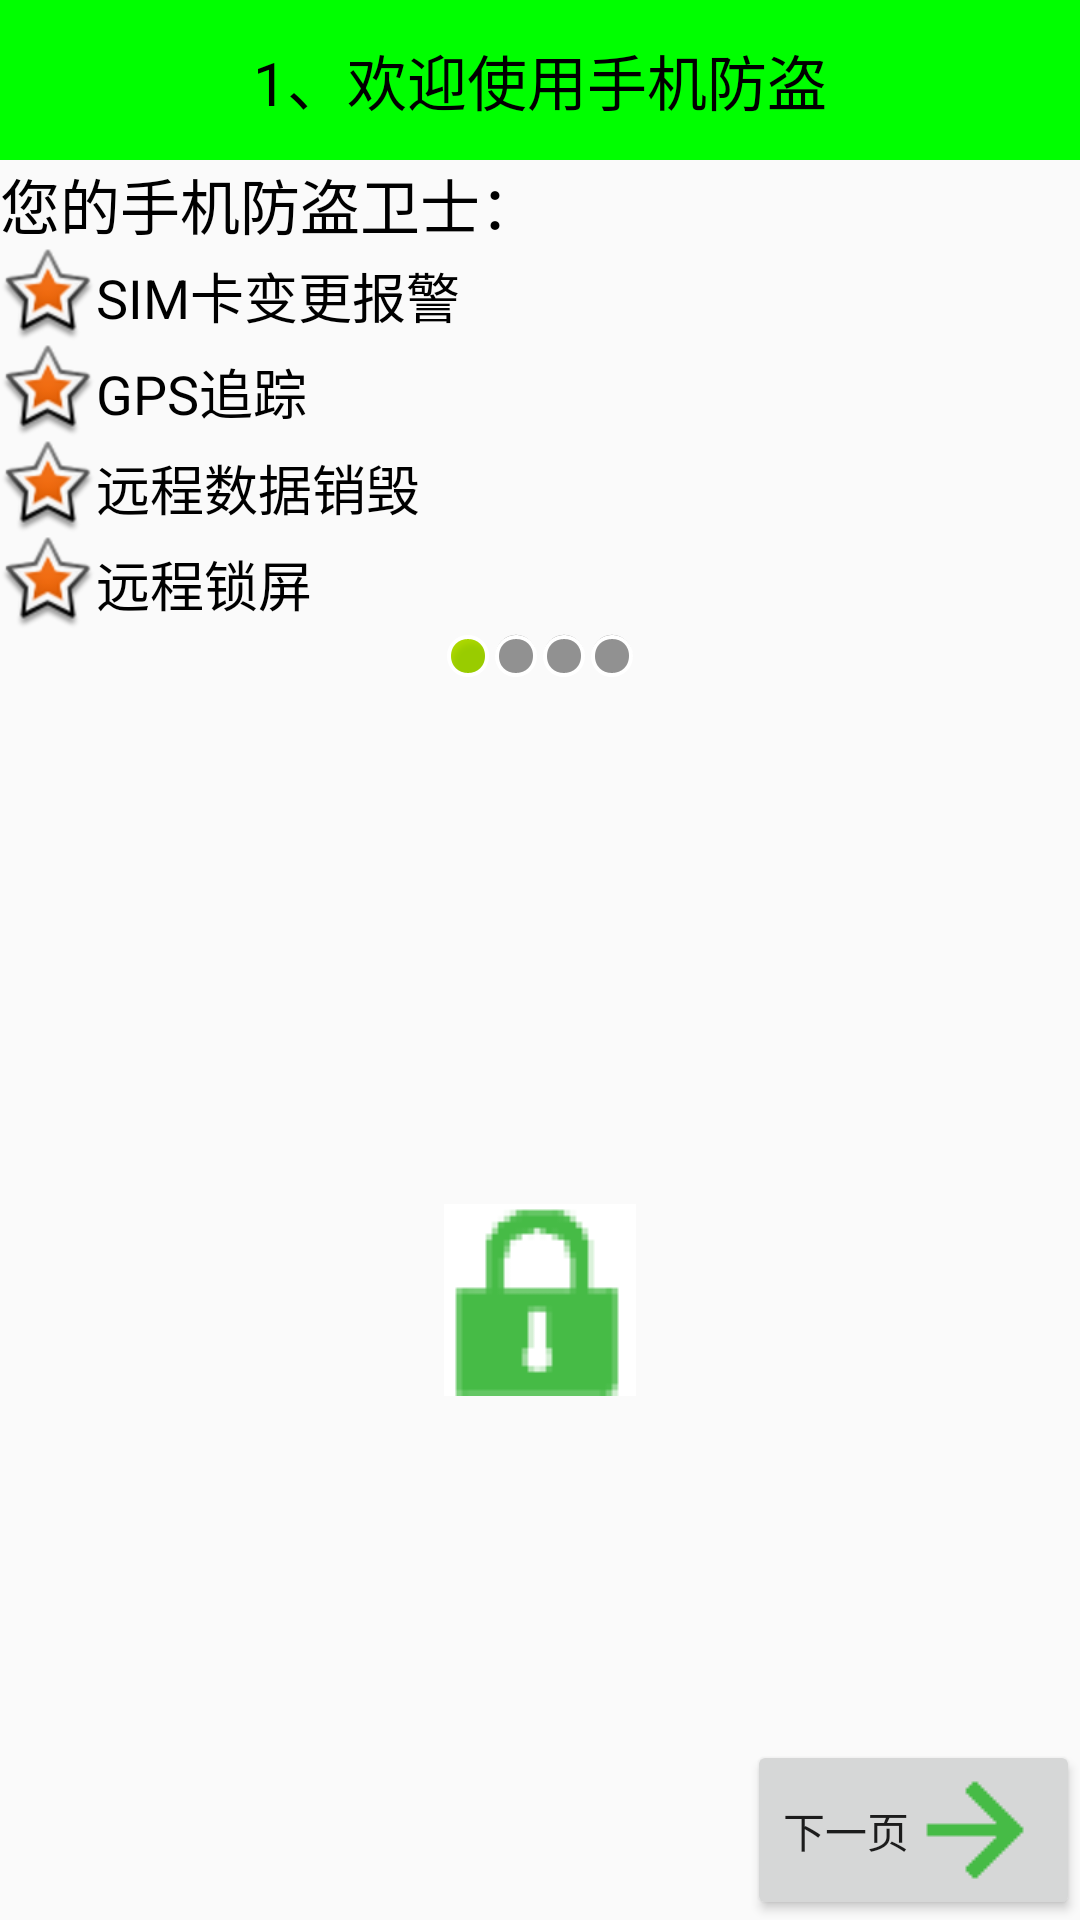

Icon click points for this 1080 × 1920 phone screenshot, format [x,y]:
presence invisible: [516,654], [564,654], [612,654]
presence online: [468,656]
